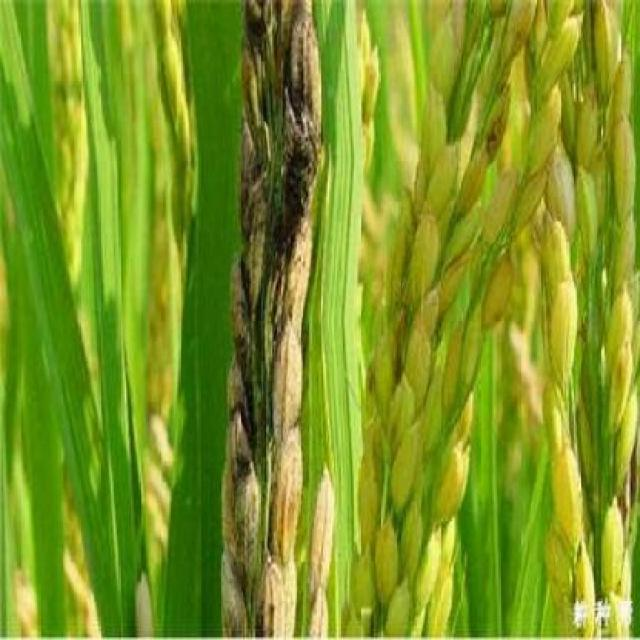rice-bug: (276, 84, 330, 262)
